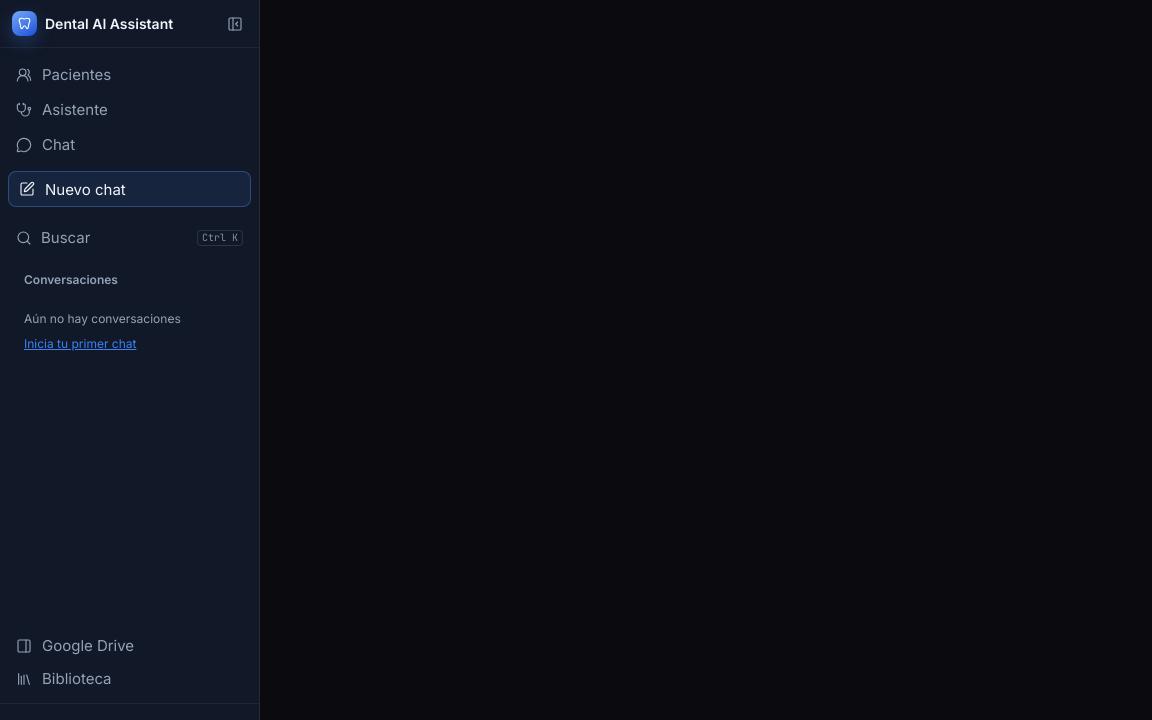
Test case: Sidebar utility seam › keeps Biblioteca behavior unchanged in the chat shell
The image size is (1152, 720).
Expected: the dialog "Biblioteca de videos" is not shown
Click the button "Biblioteca": [130, 678] box 8,662 -> 251,695
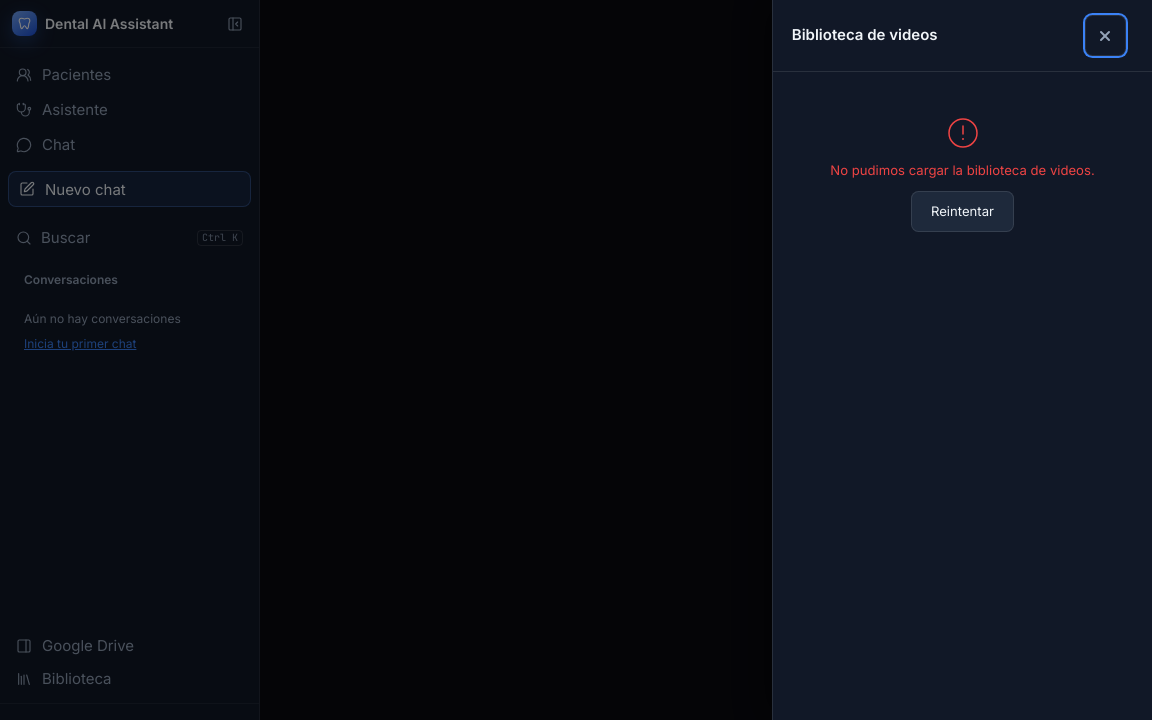
Expected: the dialog "Biblioteca de videos" is shown, 772,0 -> 1151,719
